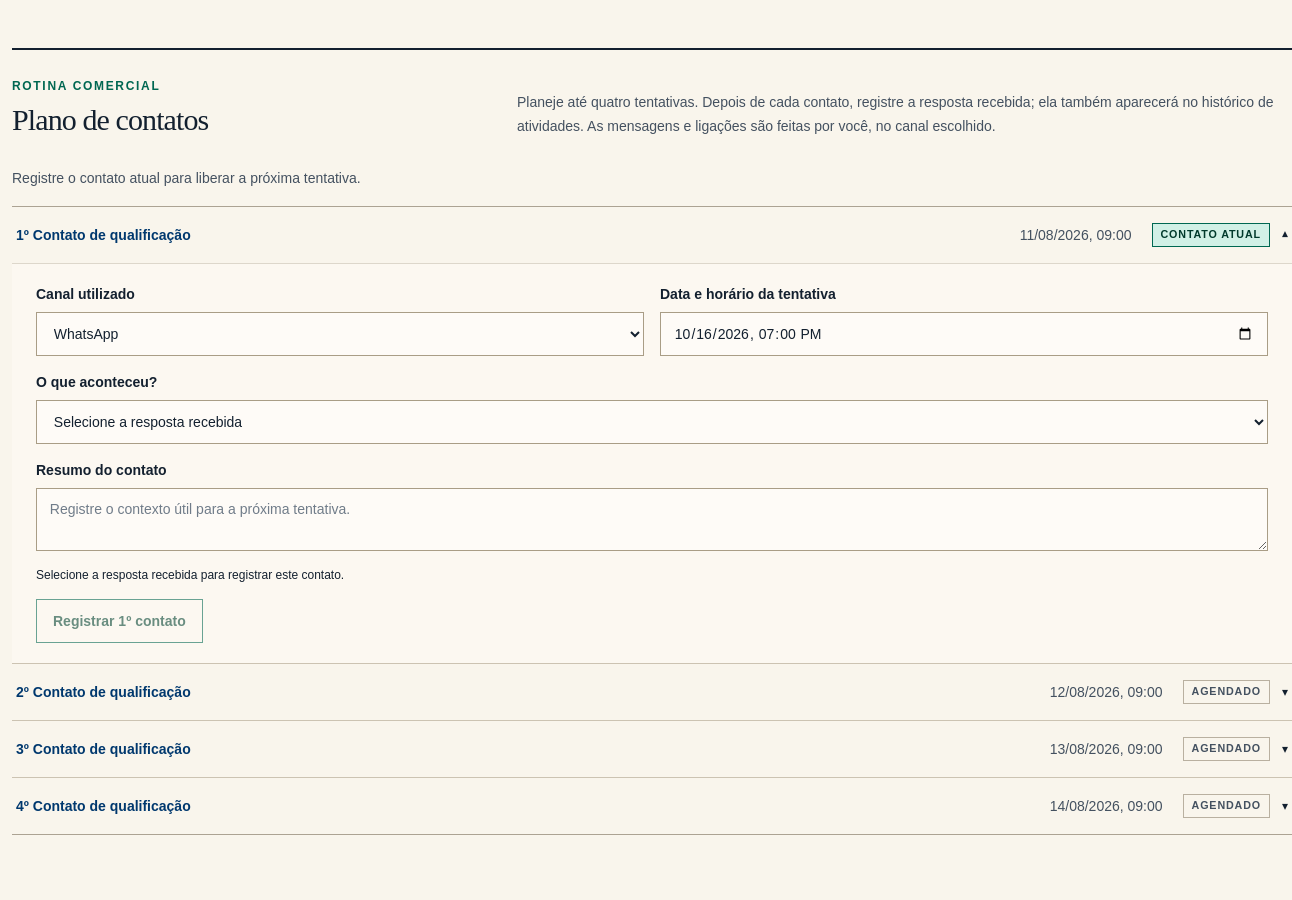
qualification feedback recovery › does not confirm a malformed successful mutation or lose the selected outcome
Select "Respondeu; continuar qualificando" in the dropdown labelled "O que aconteceu?" at x=652, y=422, box [36,400,1268,444]
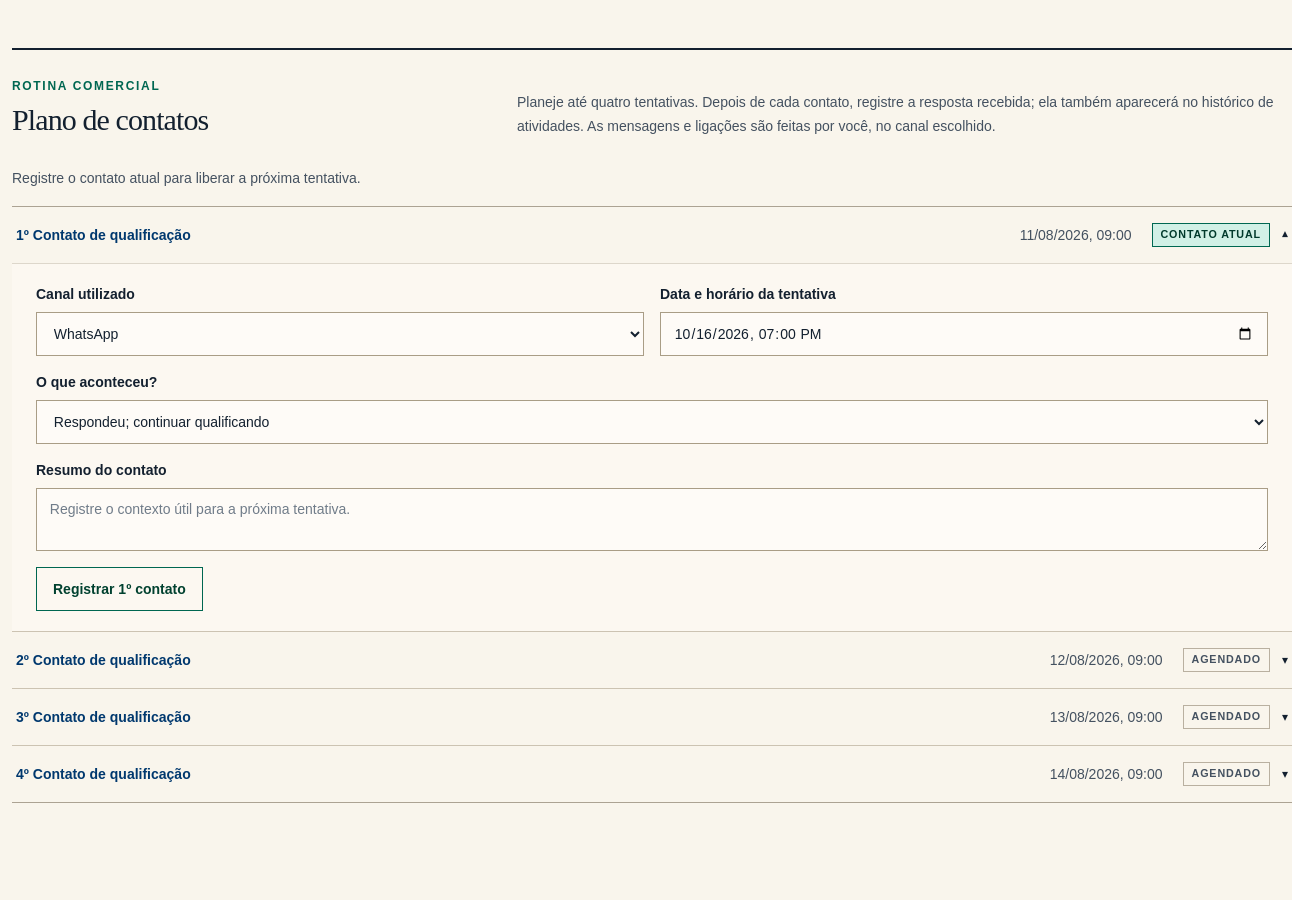
Click the button "Registrar 1º contato" at x=119, y=589, box [36,567,203,611]
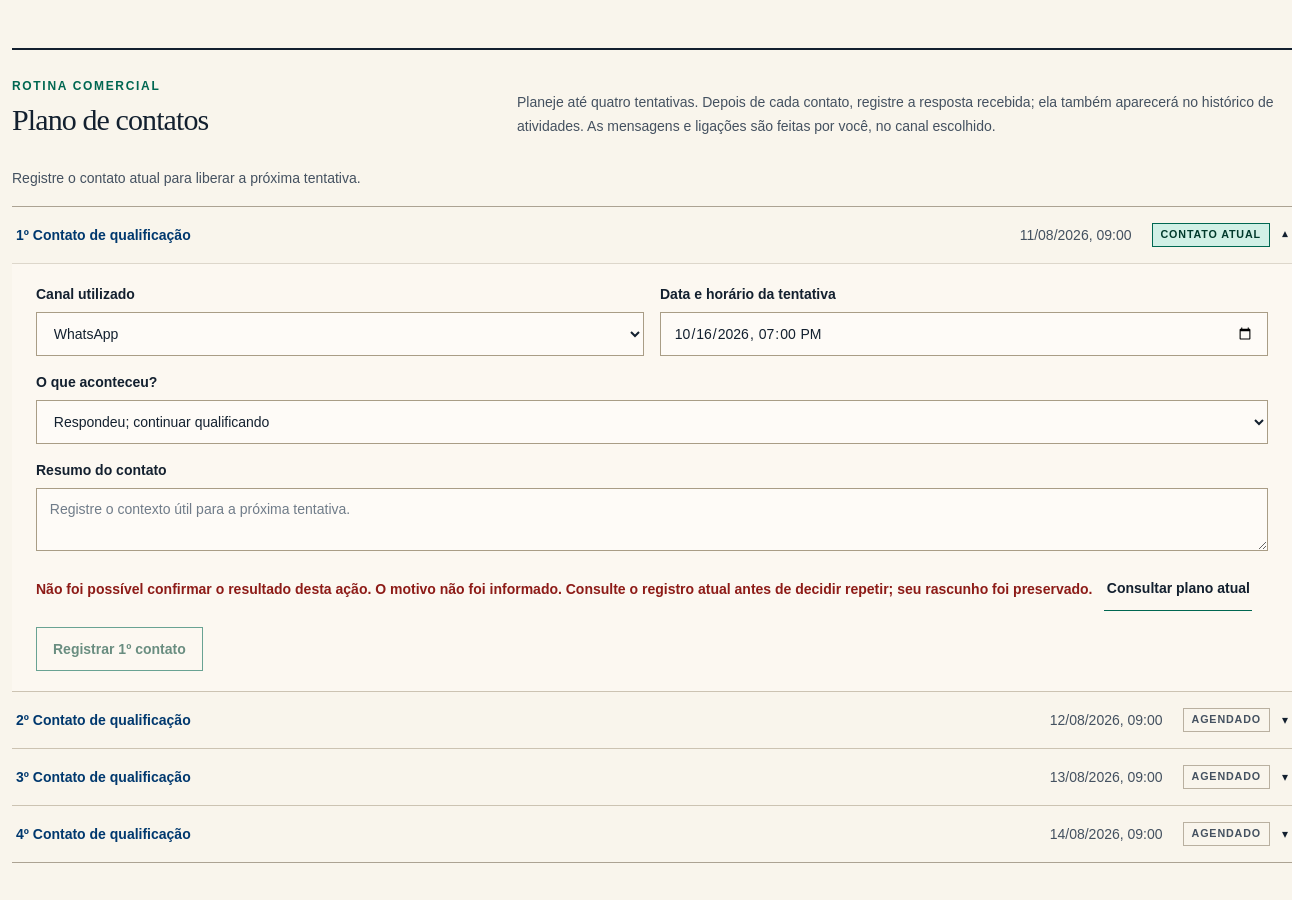
expect the message shows "Não foi possível confirmar o resultado desta ação.": met, box [36,581,1092,597]
